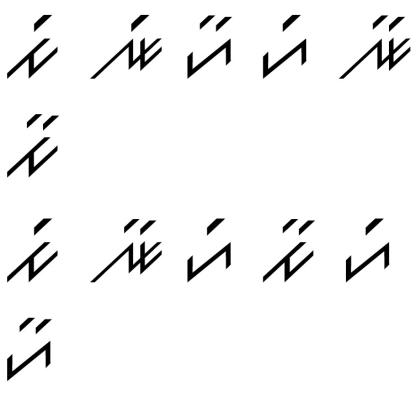han: (5, 315, 61, 388), (187, 12, 236, 80)
hang: (339, 211, 394, 287), (176, 212, 234, 283), (257, 11, 313, 80)
mban: (3, 109, 65, 181), (258, 216, 320, 286)
mbang: (2, 211, 61, 284), (5, 14, 64, 82)
ndan: (84, 210, 166, 286), (339, 8, 412, 85)
ndang: (90, 10, 164, 82)
